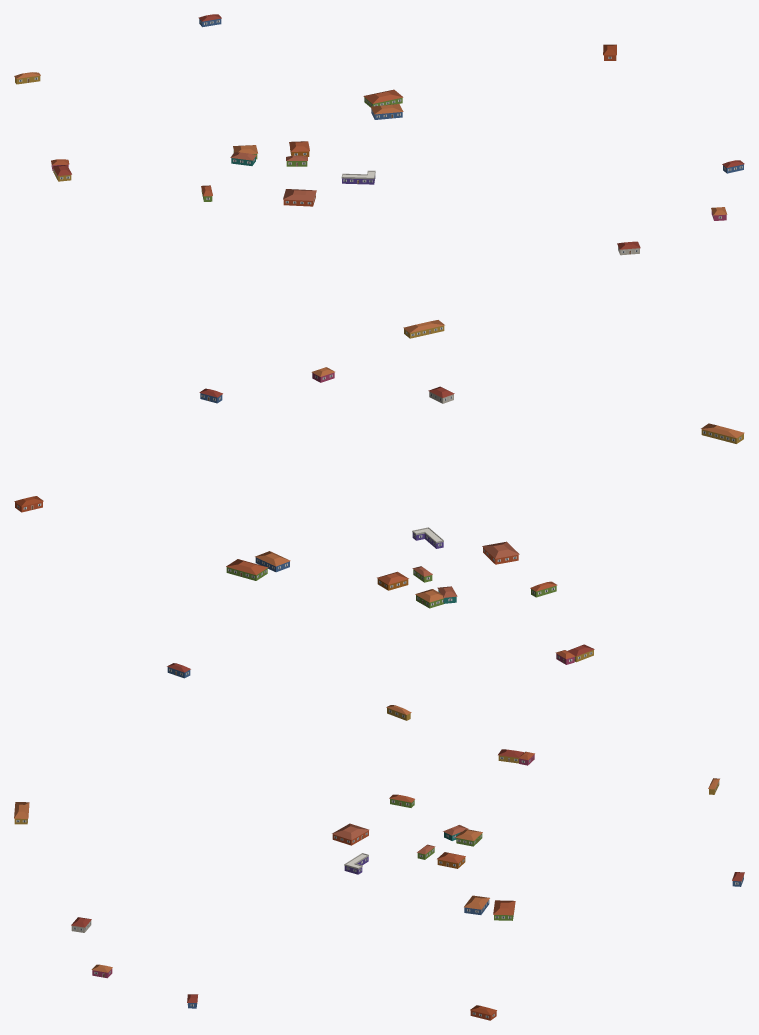
The model's file is msb_oranjestad_m17_m3.glb.
3 renders of one model, top to bottom at view 1: azimuth 30°, elevation 25°; view 2: azimuth 150°, elevation 25°; view 3: azimuth 270°, elevation 25°, orthographic. The views are drawn at different scales.
Parts seen in each view (by area): view 1: msb_oranjestad_m17_m3_lod0; view 2: msb_oranjestad_m17_m3_lod0; view 3: msb_oranjestad_m17_m3_lod0.
Boxes of the visible parts, box(x1,y1,x2,y2) form: msb_oranjestad_m17_m3_lod0: box(14, 14, 744, 338); msb_oranjestad_m17_m3_lod0: box(14, 367, 744, 720); msb_oranjestad_m17_m3_lod0: box(14, 749, 744, 1020).
Size of what is drawn, in the model's own units: 341 by 9.81 by 396.
3 materials, 1 textured.
